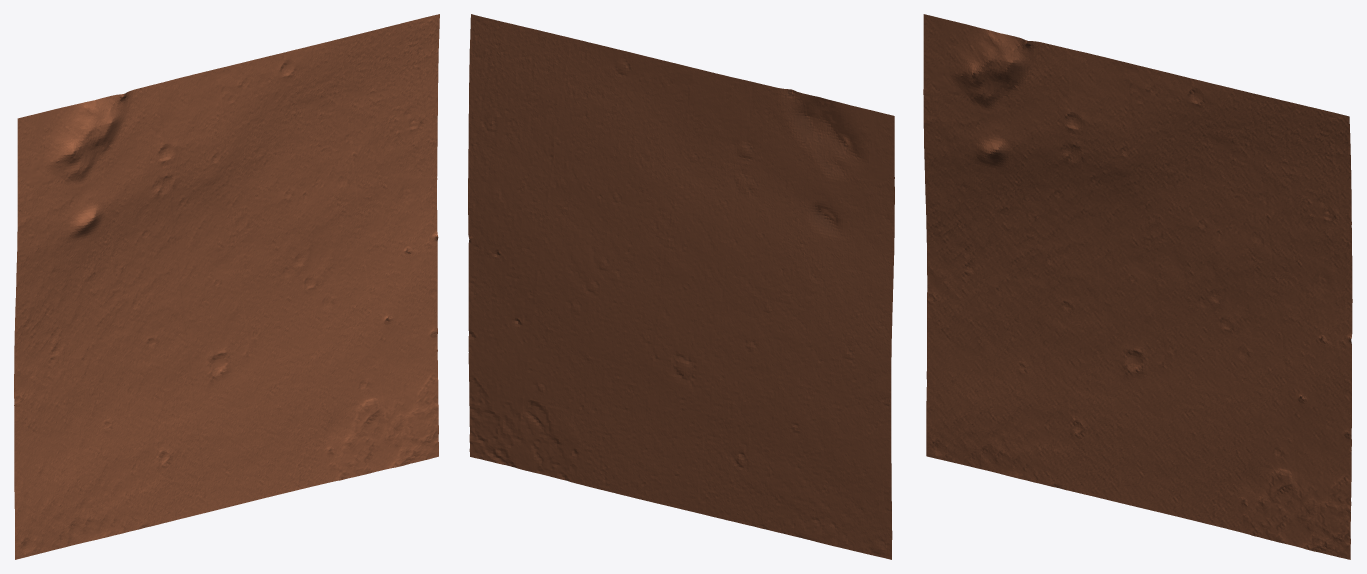
Rendered from terrain.obj.
3 renders of one model, left to right at view 1: azimuth 30°, elevation 25°; view 2: azimuth 150°, elevation 25°; view 3: azimuth 330°, elevation 25°, orthographic.
Visible parts, largest first — view 1: terrain; view 2: terrain; view 3: terrain.
Boxes of the visible parts, x1,y1,x2,y2 form: terrain: (14, 14, 439, 559); terrain: (468, 14, 894, 559); terrain: (923, 14, 1352, 559).
Bounding box in the file's own units: 3974 × 3974 × 140.
Materials: 1 (1 with a texture image).
